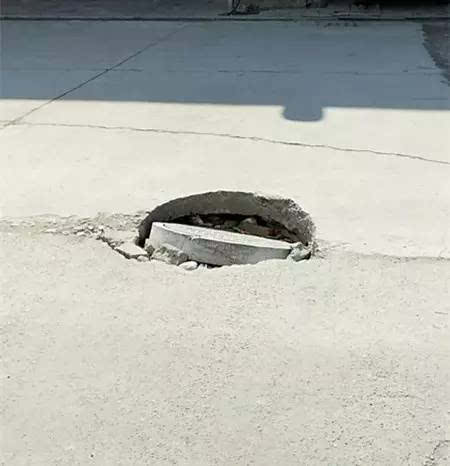broke: (97, 173, 353, 308)
